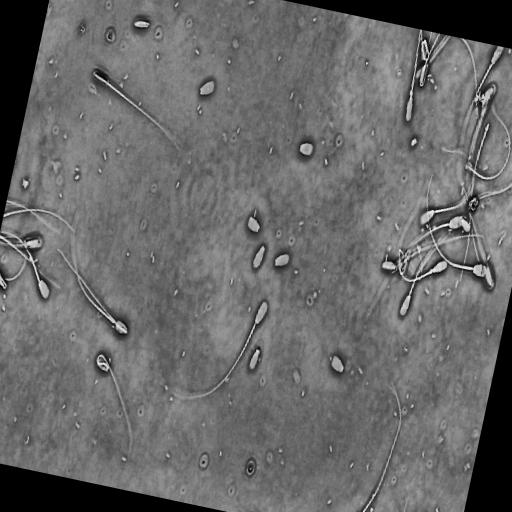coiled-tail: (96, 354, 130, 451)
folded-tail: (56, 248, 127, 333), (410, 29, 423, 96)
loose-head: (245, 342, 266, 376), (271, 244, 294, 274), (248, 242, 269, 274), (195, 75, 219, 102), (242, 209, 264, 236), (328, 351, 348, 376), (296, 137, 315, 163), (132, 16, 150, 32)
loose-tail: (456, 119, 491, 291), (465, 92, 512, 182), (458, 38, 484, 134)
normal: (160, 296, 269, 400), (90, 66, 186, 158), (54, 243, 130, 336), (455, 46, 503, 183), (426, 171, 486, 278), (356, 383, 404, 512), (396, 177, 447, 283), (398, 223, 456, 315), (91, 348, 133, 466), (0, 229, 50, 300), (420, 170, 477, 225), (404, 29, 424, 125)
proximal-droplet: (428, 267, 433, 274)
